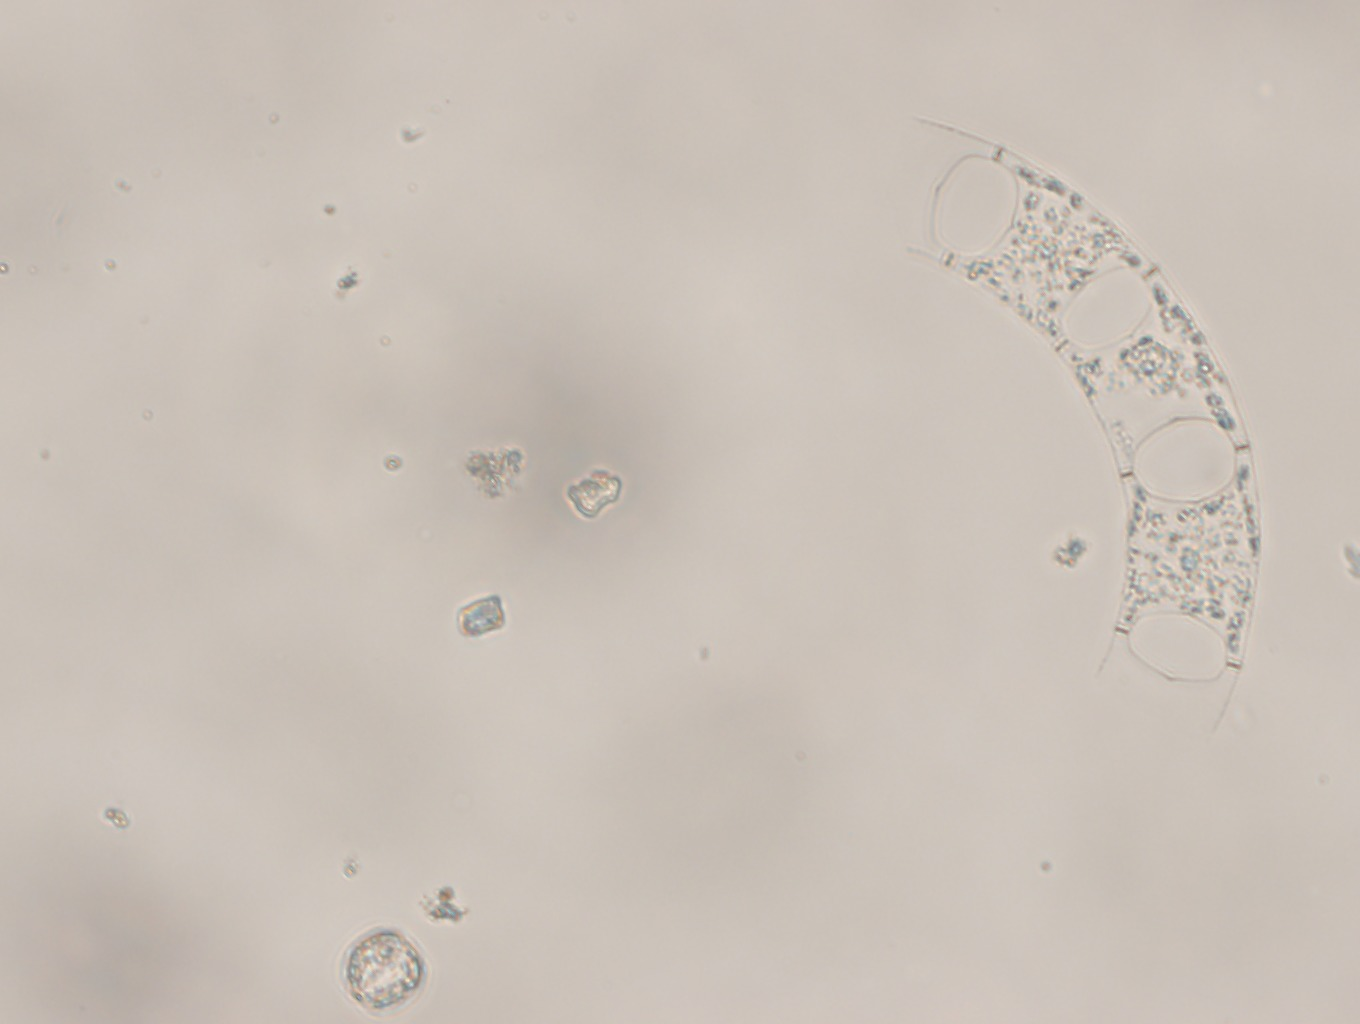eucampia: (899, 111, 1261, 735)
